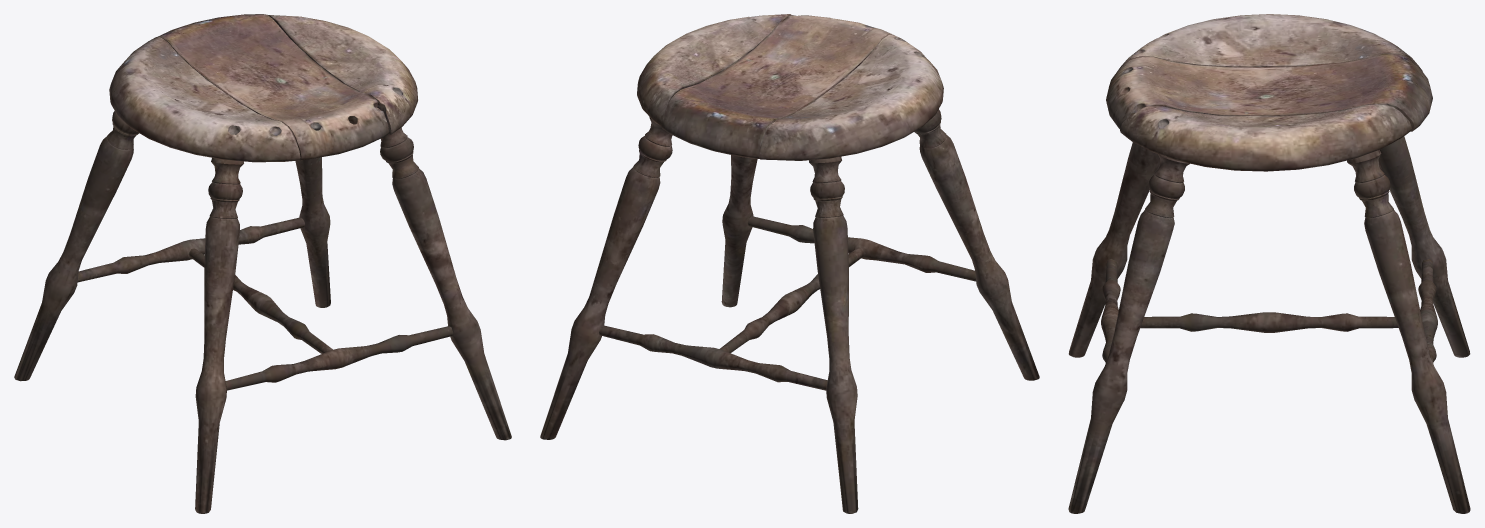
File: wooden_stool_01.glb
The picture shows the model from 3 angles, left to right: view 1: azimuth 30°, elevation 25°; view 2: azimuth 150°, elevation 25°; view 3: azimuth 270°, elevation 25°; orthographic projection. The views are drawn at different scales.
Visible parts, largest first — view 1: wooden_stool_01; view 2: wooden_stool_01; view 3: wooden_stool_01.
Part boxes in pixels (left/top/right/bottom): wooden_stool_01: left=14, top=14, right=511, bottom=513; wooden_stool_01: left=540, top=14, right=1039, bottom=513; wooden_stool_01: left=1068, top=14, right=1470, bottom=513.
Bounding box in the file's own units: 0.4246 × 0.4373 × 0.4424.
1 material, 1 textured.
